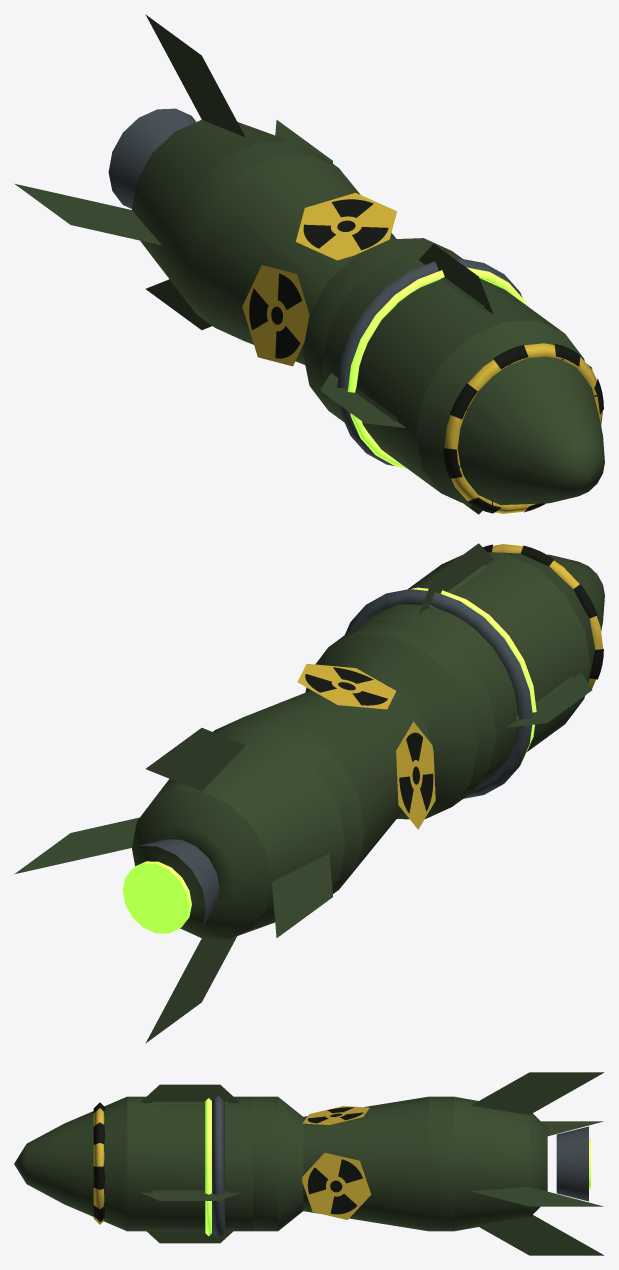
File: radiation-bomb-l1.glb
3 views of the same model, one above another, from view 1: azimuth 30°, elevation 25°; view 2: azimuth 150°, elevation 25°; view 3: azimuth 270°, elevation 25° (orthographic). The views are drawn at different scales.
Parts seen in each view (by area): view 1: M1 titanium pressure casing, Batched pressure fittings (×4); view 2: M1 titanium pressure casing, Batched pressure fittings (×4), Isotope drive throat; view 3: M1 titanium pressure casing, Batched pressure fittings (×4).
Part boxes in pixels (x1,y1,x2,y2): M1 titanium pressure casing: (14,14,604,514); Batched pressure fittings (×4): (108,108,603,513); M1 titanium pressure casing: (14,543,604,1043); Batched pressure fittings (×4): (139,544,603,927); Isotope drive throat: (122,861,191,933); M1 titanium pressure casing: (14,1072,604,1255); Batched pressure fittings (×4): (93,1096,588,1238).
Bounding box in the file's own units: 0.7532 × 0.7532 × 2.2.
